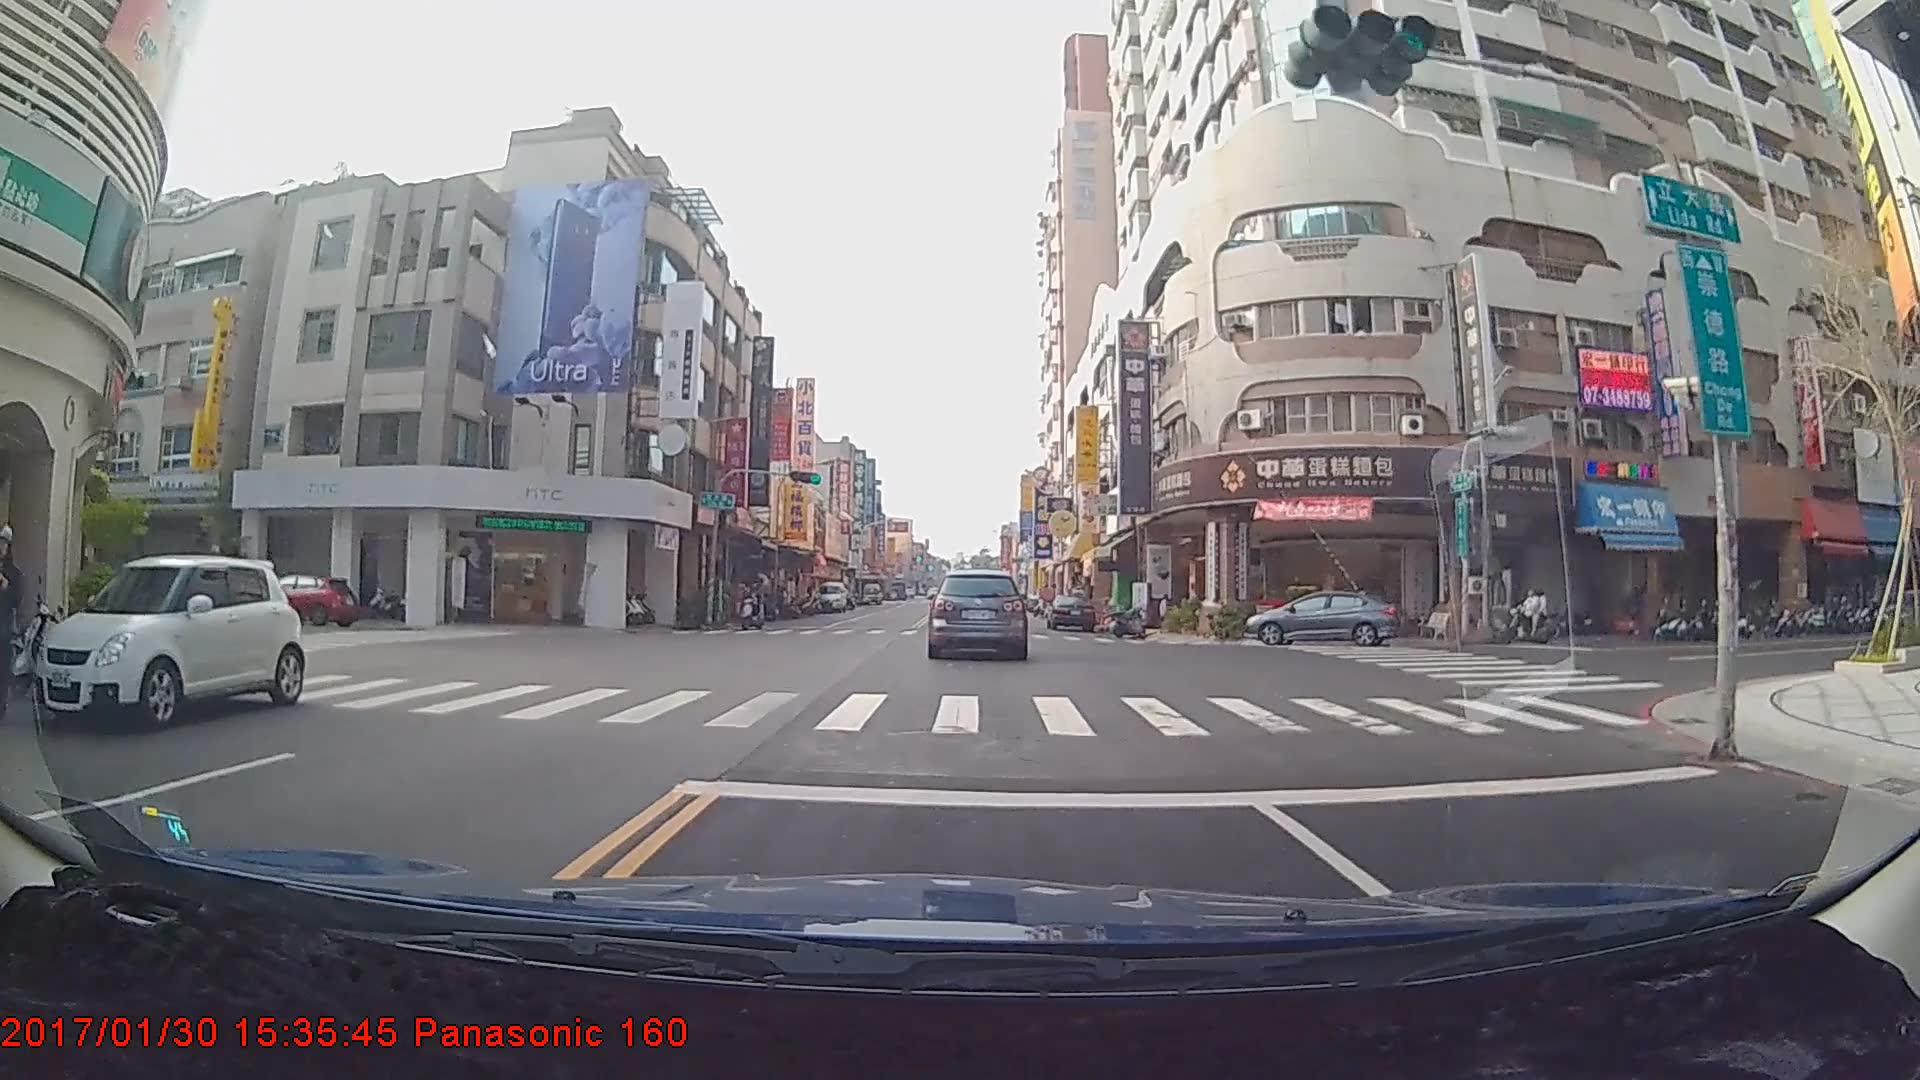rider: (1499, 589, 1559, 644), (733, 577, 767, 634)
vehicle: (42, 555, 307, 727), (929, 570, 1026, 659), (1241, 589, 1398, 645), (241, 573, 359, 630), (1046, 595, 1096, 632), (813, 582, 847, 614)
